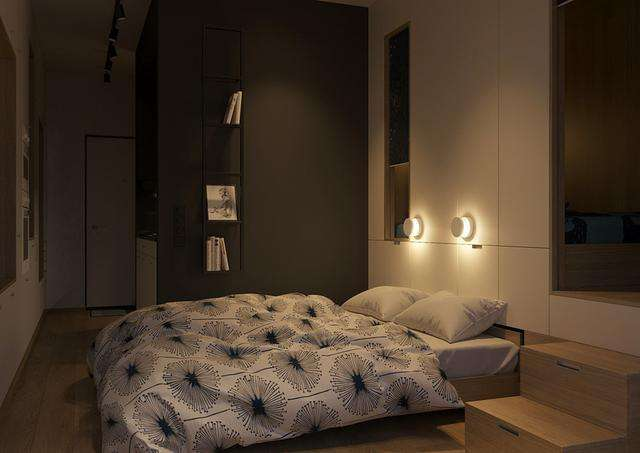床: (80, 292, 523, 448)
枕头: (343, 285, 505, 340)
灯: (451, 208, 475, 245), (404, 213, 430, 245)
